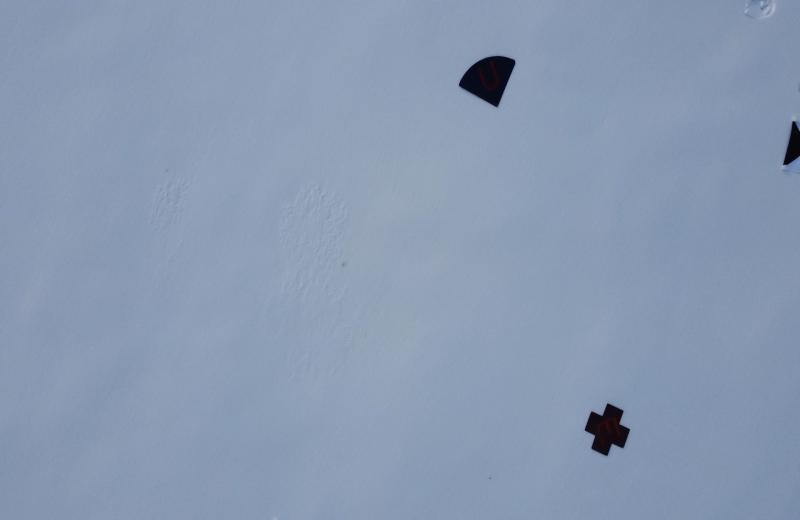Cross: (585, 402, 630, 458)
Quarter Circle: (461, 50, 517, 108)
